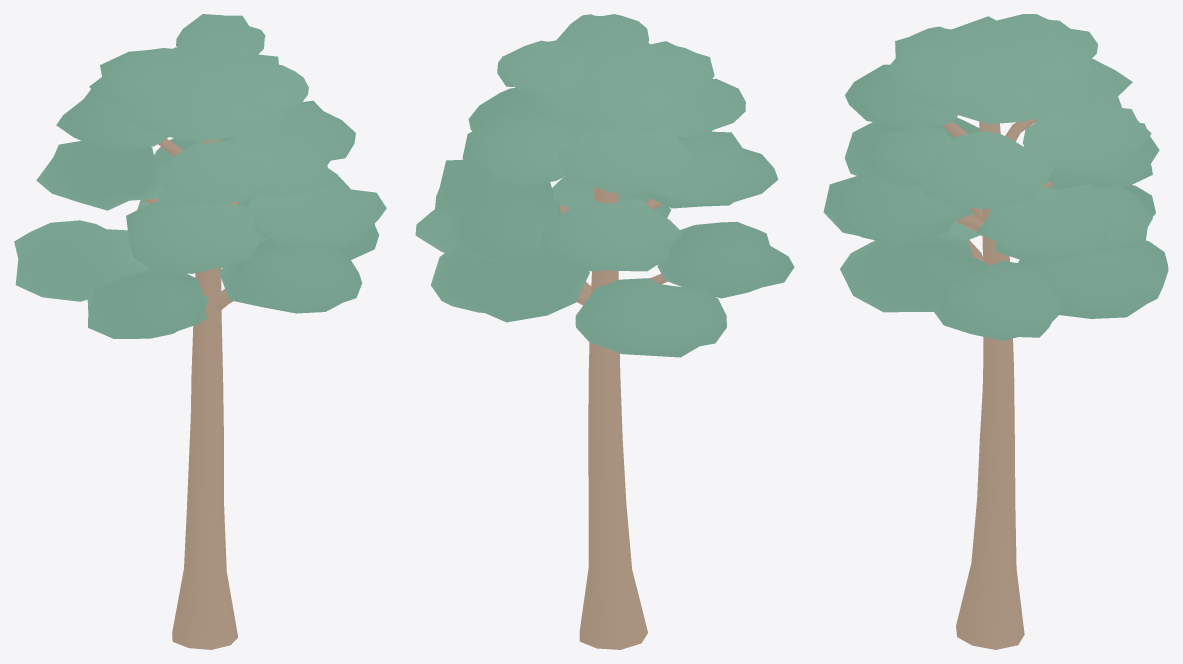
The model's file is Blender_Pine_3.glb.
3 views of the same model, side by side, from view 1: azimuth 30°, elevation 25°; view 2: azimuth 150°, elevation 25°; view 3: azimuth 270°, elevation 25° (orthographic). The views are drawn at different scales.
Visible parts, largest first — view 1: Blender_Pine_3; view 2: Blender_Pine_3; view 3: Blender_Pine_3.
Part boxes in pixels (<box>): Blender_Pine_3: <box>14,14,386,649</box>; Blender_Pine_3: <box>415,14,794,649</box>; Blender_Pine_3: <box>823,14,1168,649</box>.
Bounding box in the file's own units: 13.59 × 23.94 × 12.31.
